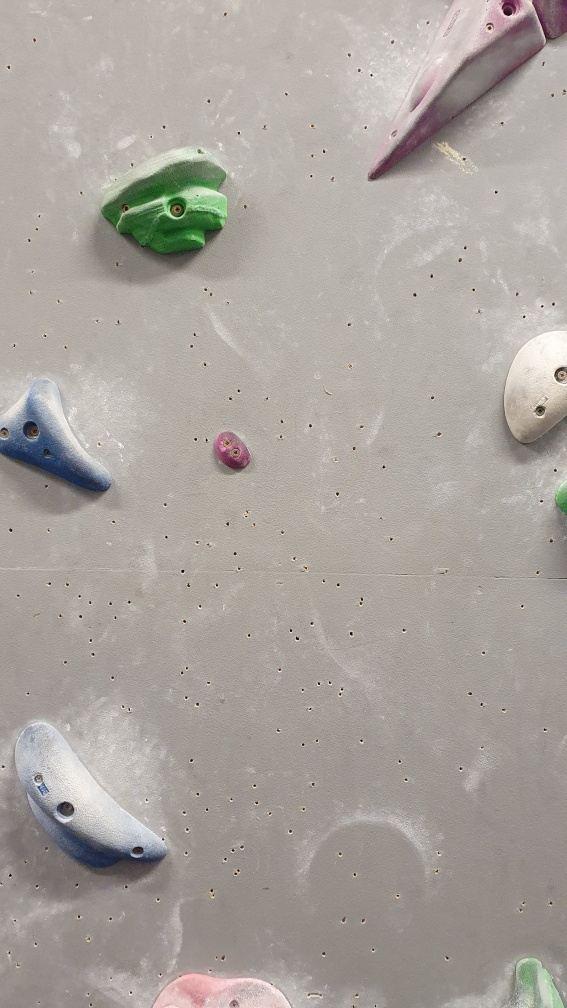Jug: (95, 141, 233, 257)
Pinch: (13, 713, 173, 871), (213, 429, 254, 473)
